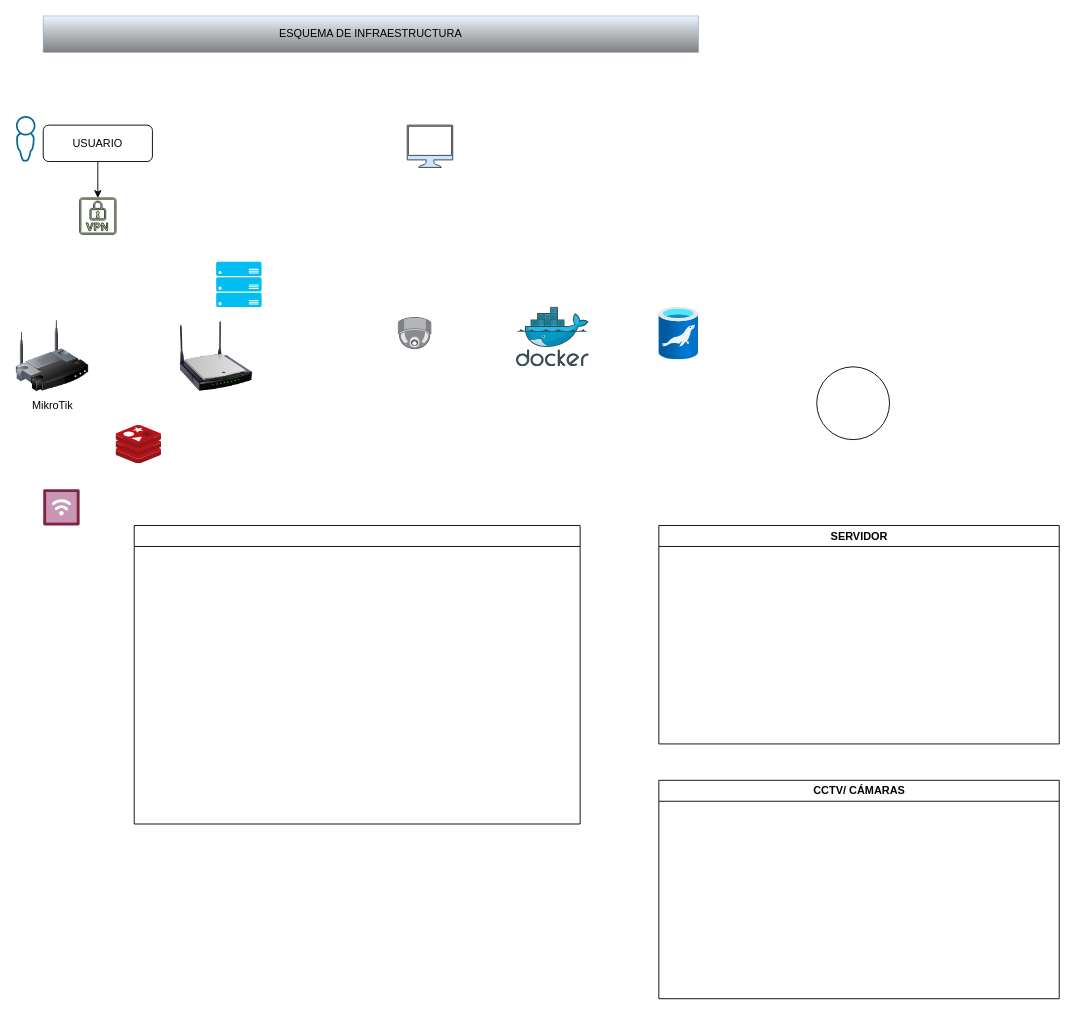
This 1075x1015 diagram has some shape labels left out. Here are the shapes that lost their labels. From the top down, the centre of each, then its label:
[215,355]: Movistar
[853,403]: INTERNET
[356,674]: MAQUINAS
